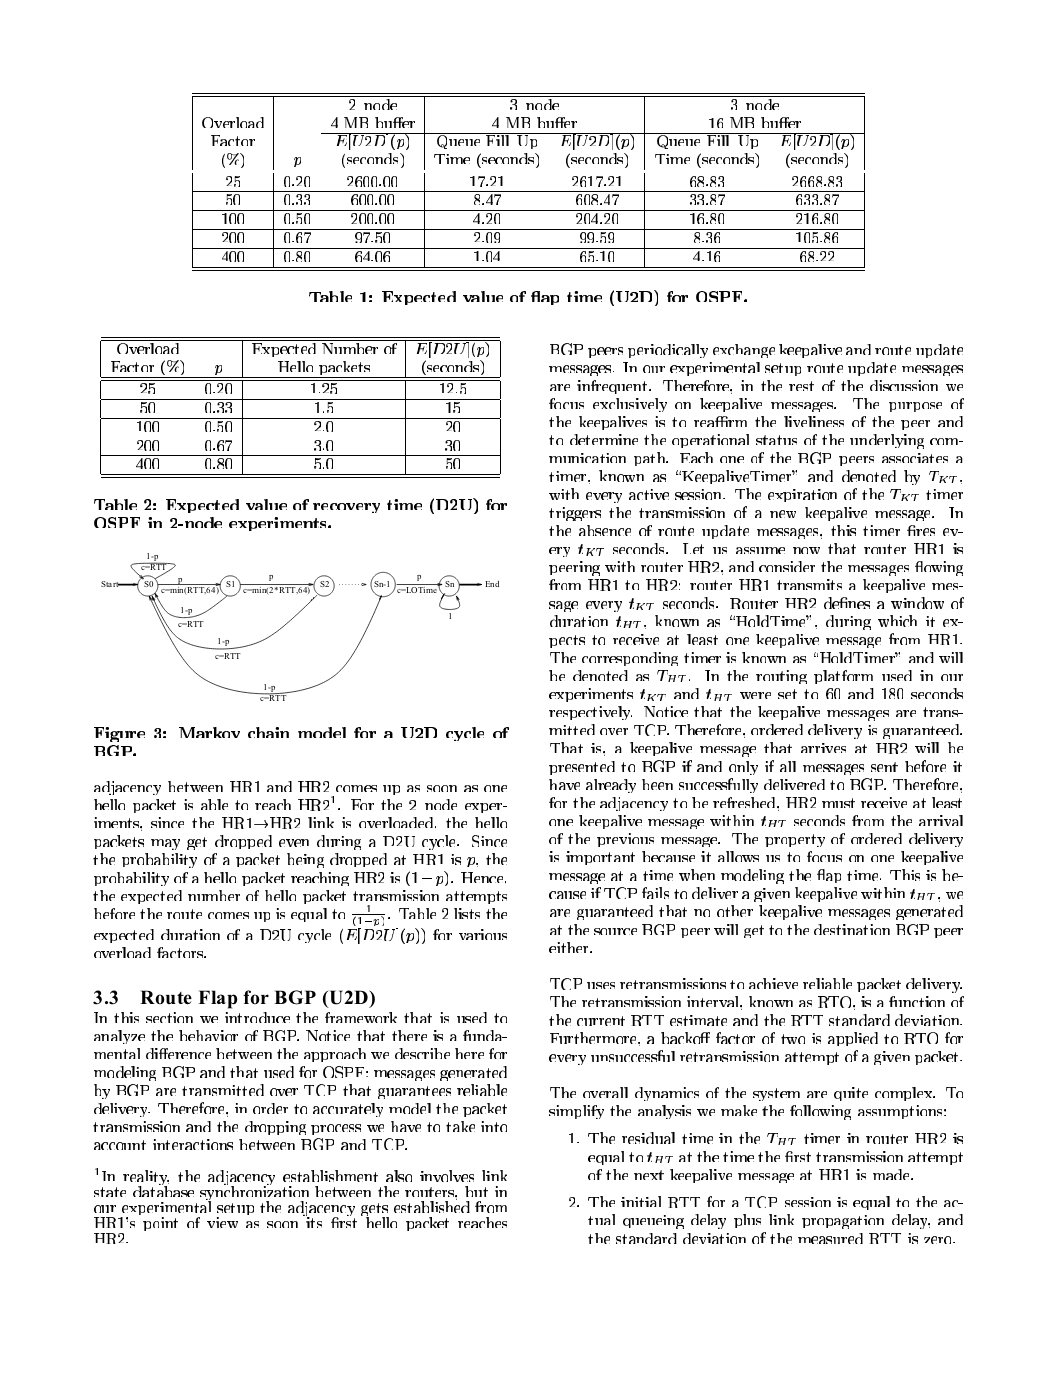Table: (192, 92, 864, 270), (100, 335, 500, 478)
figure: (101, 552, 499, 701)
